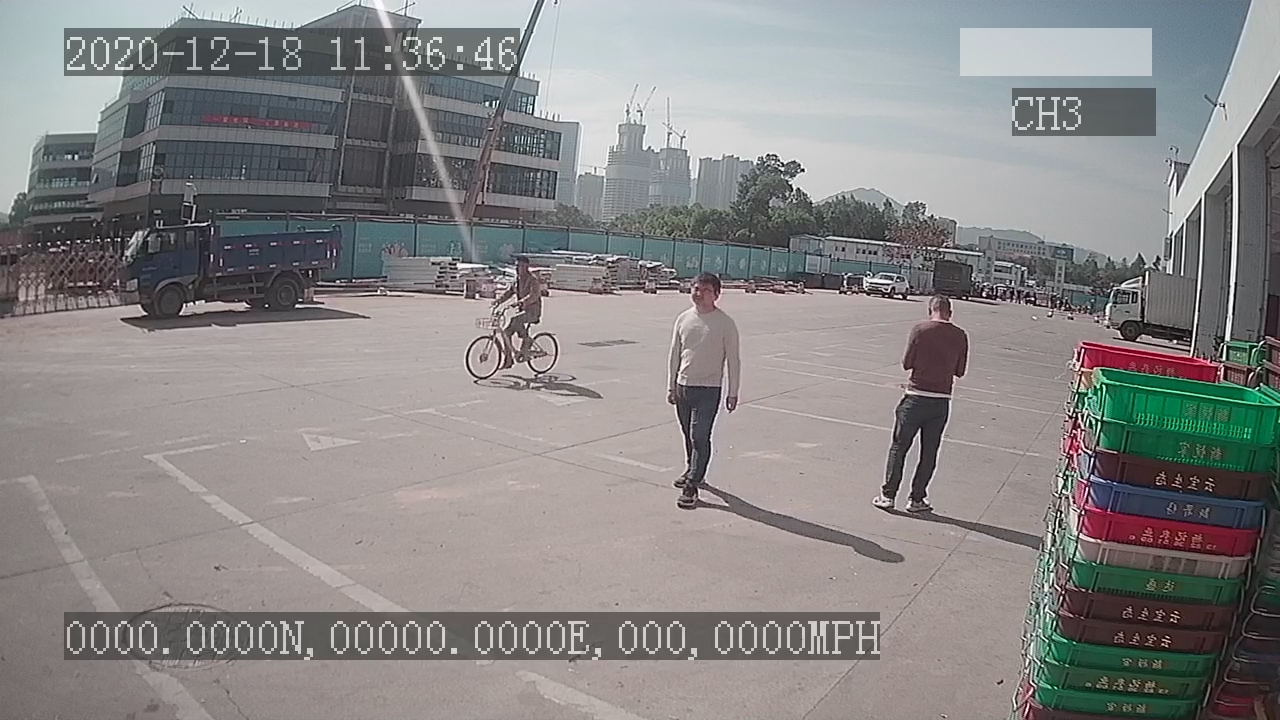person: (869, 292, 969, 517), (660, 269, 742, 509)
